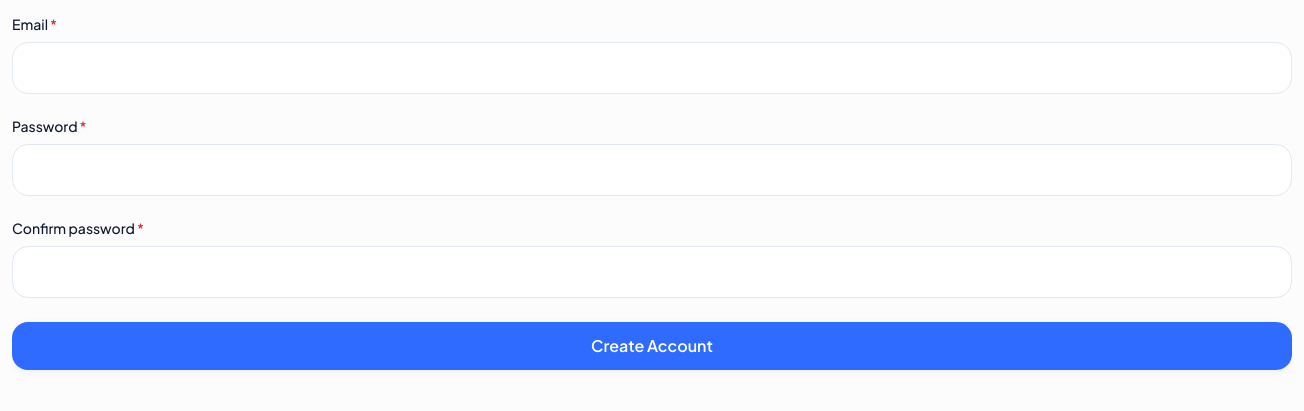
Test: RegisterForm › shows a confirm-password mismatch error and blocks submission
Type "jane@example.com" into the field labelled "Email*" at (652, 68), box [12,42,1292,94]
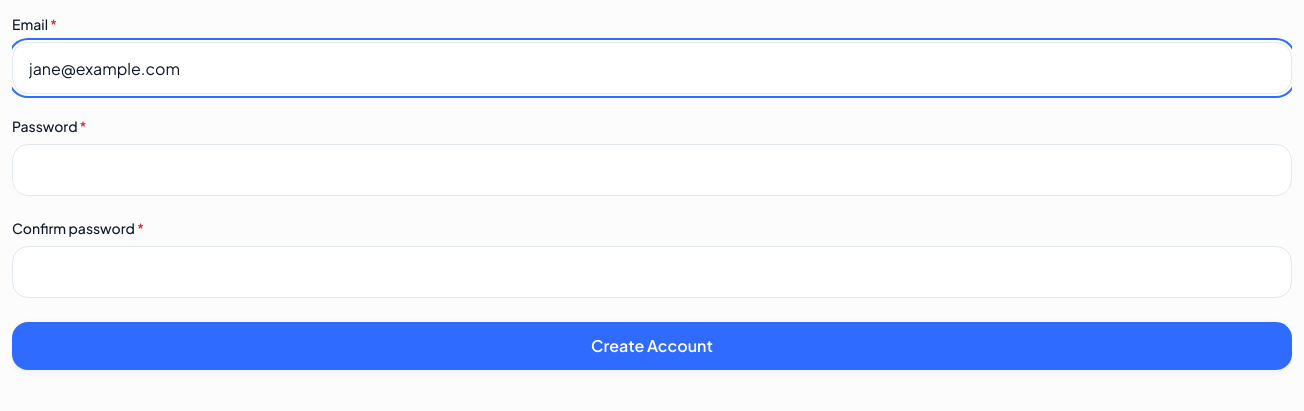
Type "longenough1" into the password field labelled "Password*" at (652, 170), box [12,144,1292,196]
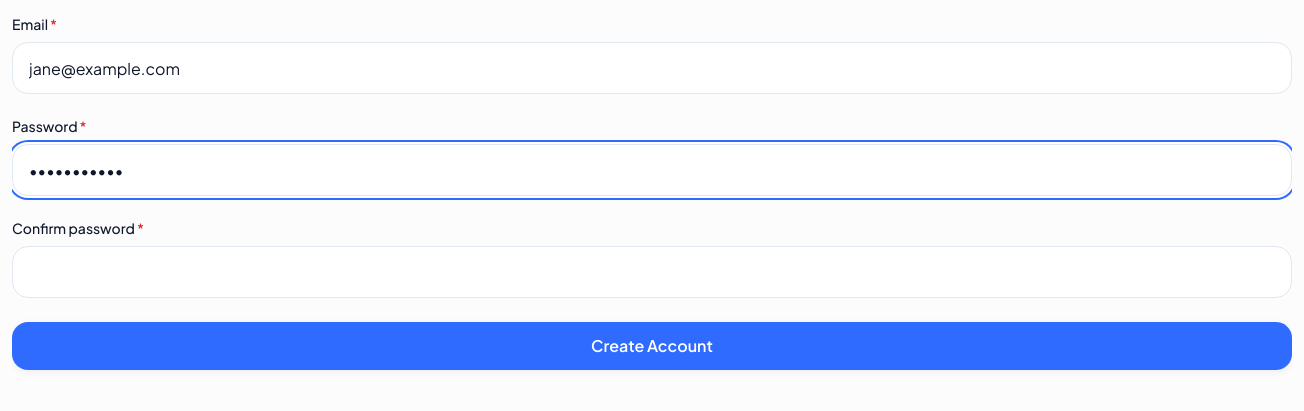
Type "doesnotmatch" into the password field labelled "Confirm password*" at (652, 272), box [12,246,1292,298]
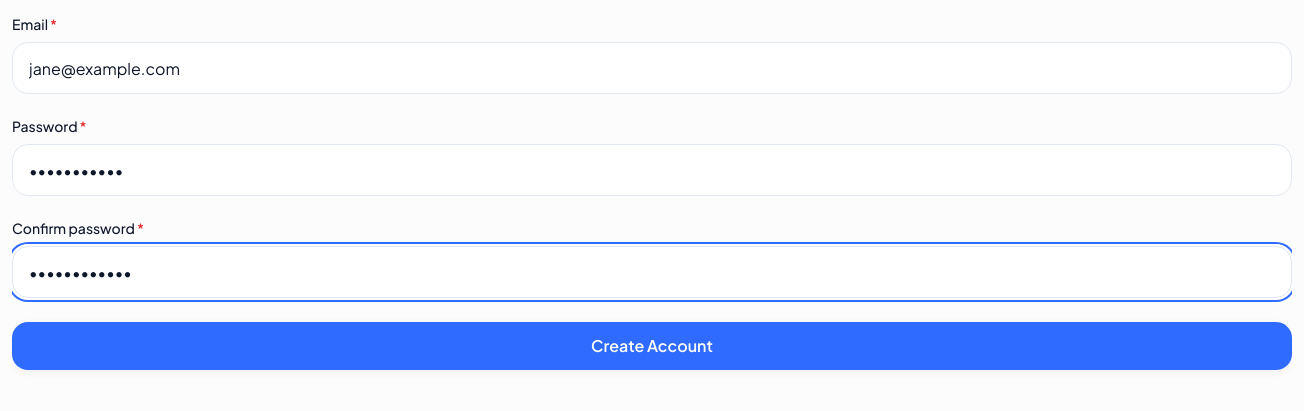
Click the button "Create Account" at (652, 346), box [12,322,1292,370]
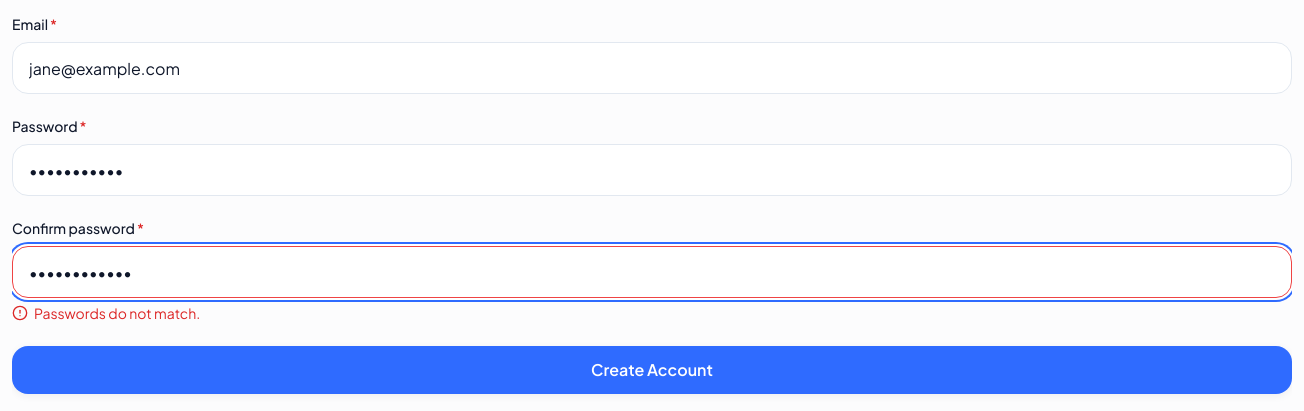
Expected: the text "Passwords do not match." is shown, [34,304,200,323]
